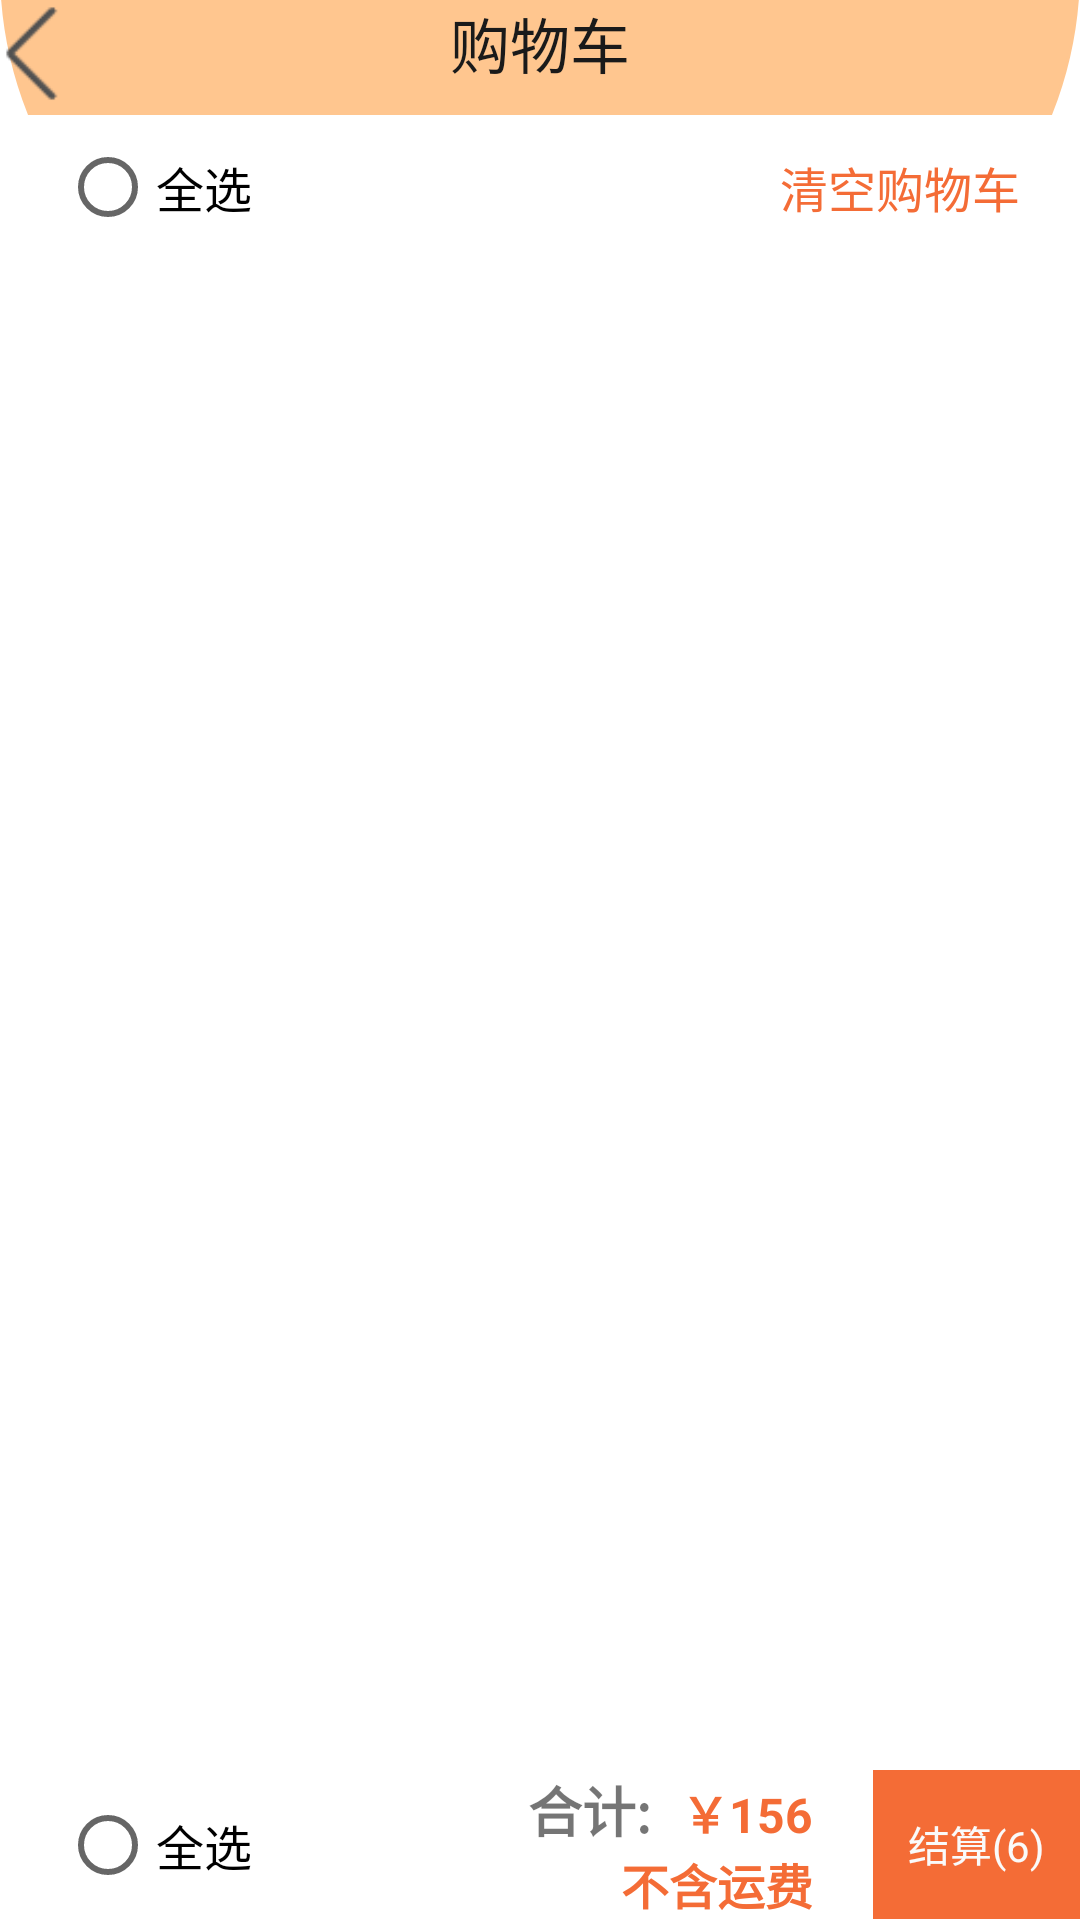

Icons on this 1080px x 1920px Android screen, each with its box as (x1,y1,x2,y2):
fanhui: (0,1,57,106)
